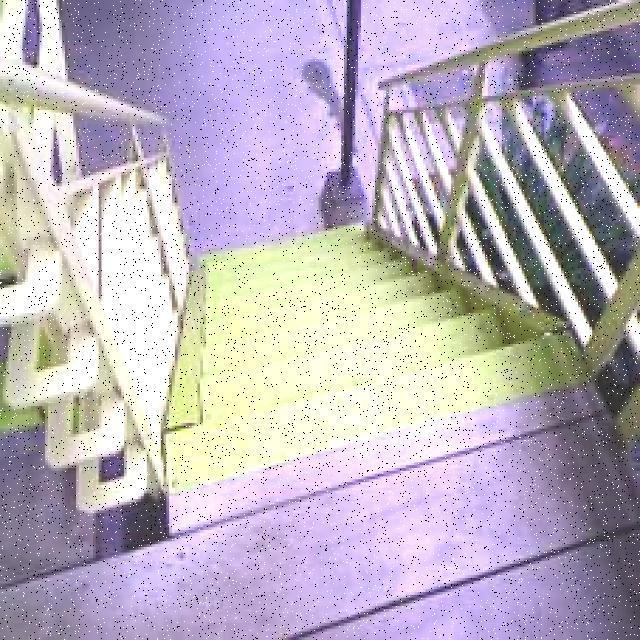Stairs: (155, 198, 581, 464)
